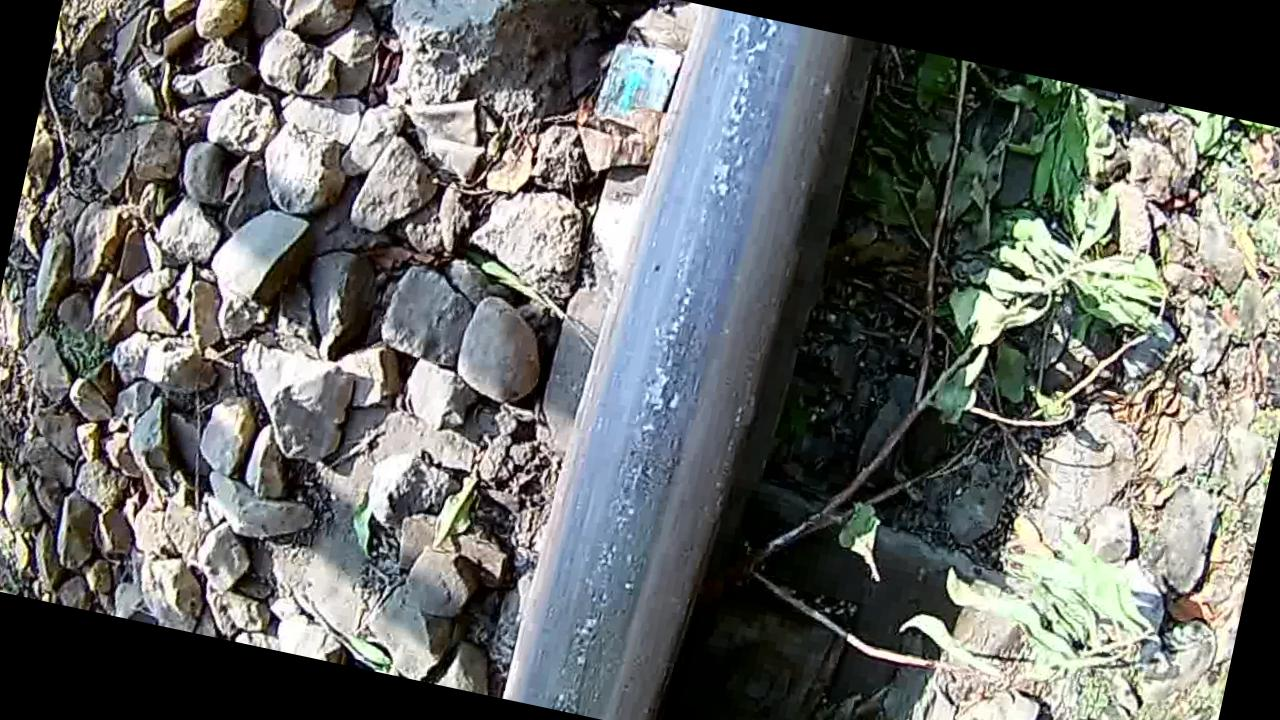crack: (522, 2, 846, 720)
